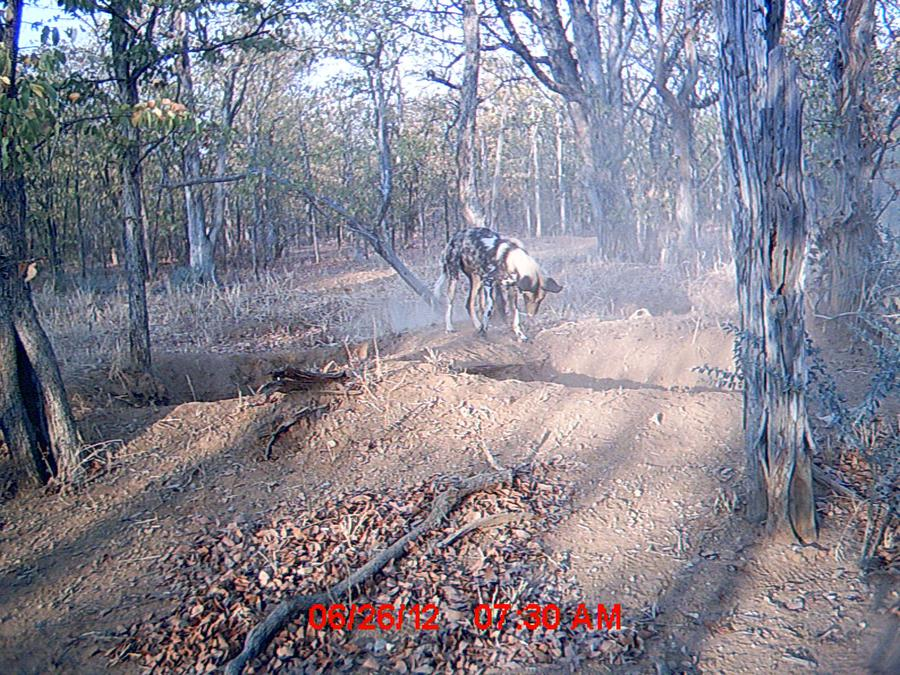wilddog: (433, 213, 546, 344)
